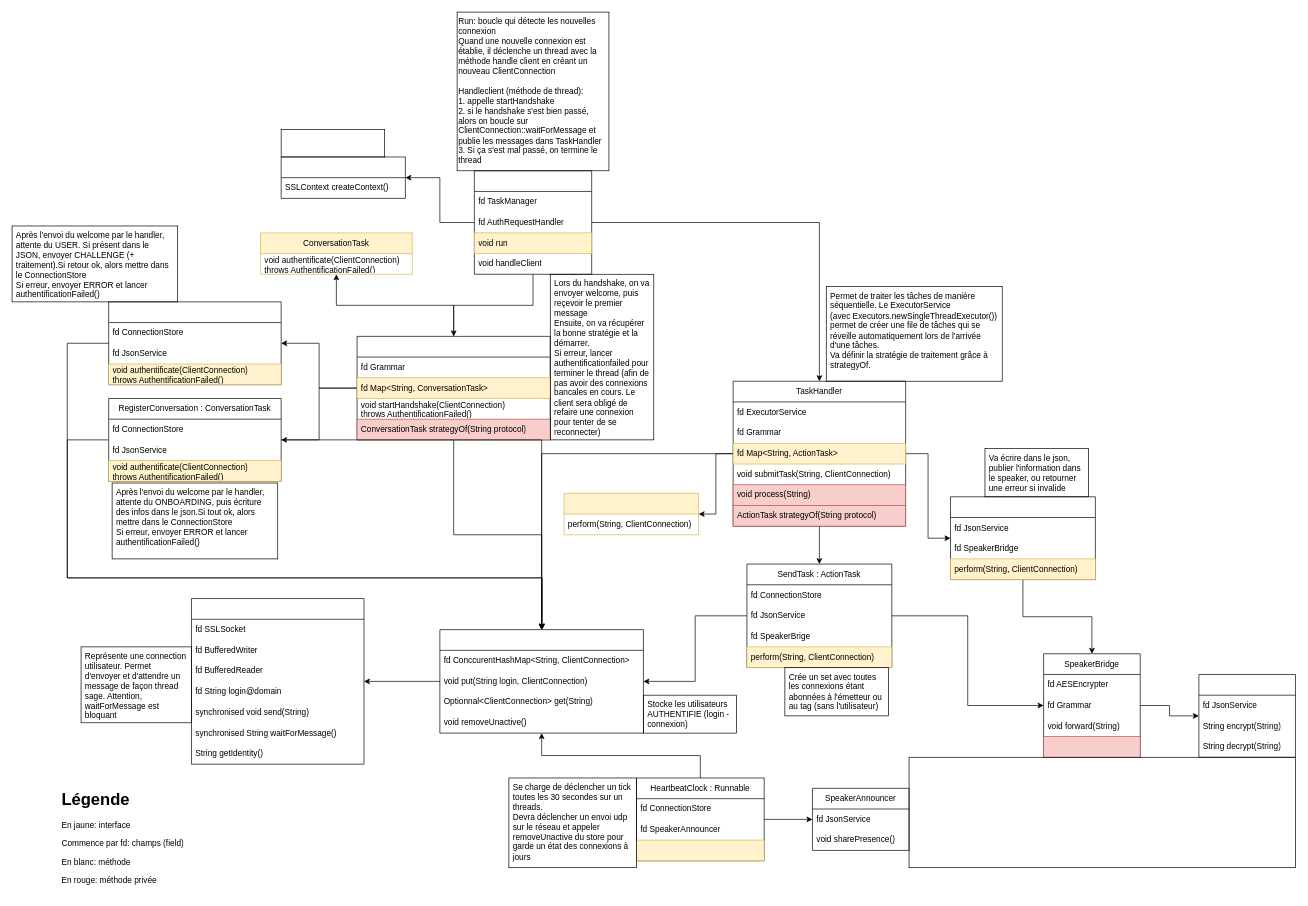
This 1308x906 diagram has some shape labels left out. The shapes that lost their labels are listed below. From the top down, each one's box as (x1, y1, x2, y2) in pixels, then its label:
(280, 129, 385, 157): Crée le contexte tls avec le certificat
(280, 156, 405, 198): TLSContextFactory
(474, 170, 592, 274): TLSServer : Runnable
(108, 301, 281, 385): LoginConversation : ConversationTask
(356, 336, 550, 440): AuthRequestHandler
(563, 493, 699, 535): ActionTask
(950, 496, 1095, 580): SubscribeTask : ActionTask
(191, 598, 364, 764): ClientConnection
(439, 629, 643, 733): ConnectionStore
(1198, 674, 1295, 757): AESEncrypter
(1043, 736, 1140, 757): void server()
(908, 757, 1295, 868): PAS ENCORE TERMINE
(636, 839, 764, 861): void run()
